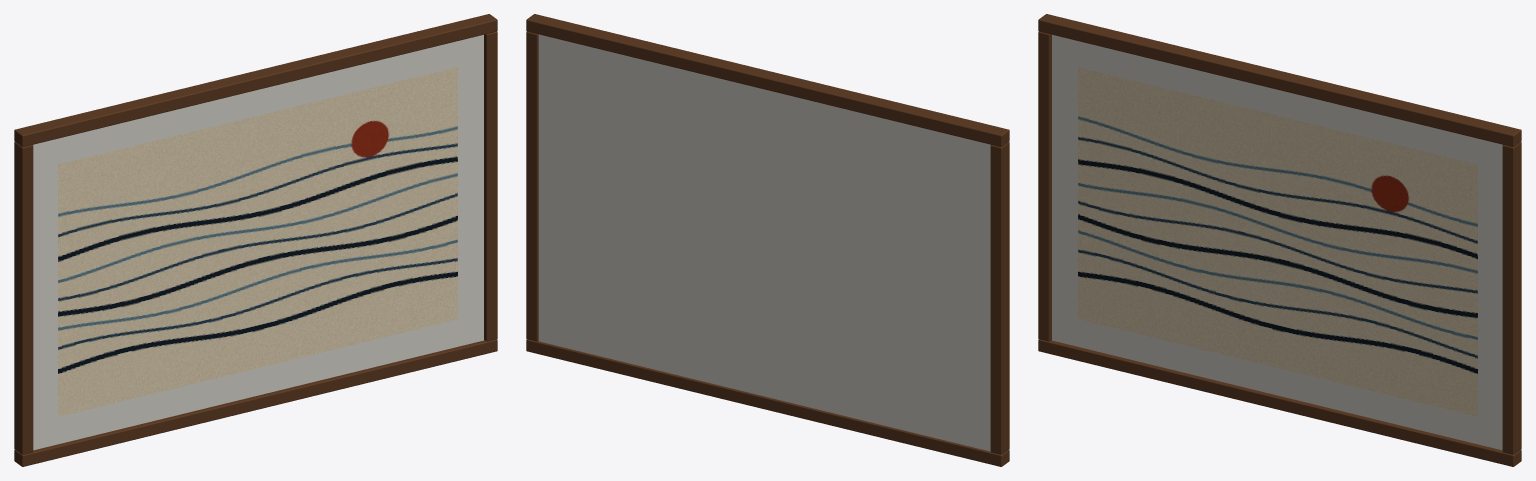
The model's file is quadro_mare.glb.
3 renders of one model, left to right at view 1: azimuth 30°, elevation 25°; view 2: azimuth 150°, elevation 25°; view 3: azimuth 330°, elevation 25°, orthographic.
Parts seen in each view (by area): view 1: q_pintura, q_passe, q_moldura_t, q_moldura_b, q_moldura_l, q_moldura_r; view 2: q_passe, q_moldura_t, q_moldura_b, q_moldura_l, q_moldura_r; view 3: q_pintura, q_passe, q_moldura_t, q_moldura_b, q_moldura_r, q_moldura_l.
Boxes of the visible parts, x1,y1,x2,y2 form: q_pintura: (58, 67, 457, 416); q_passe: (33, 34, 483, 450); q_moldura_t: (14, 14, 497, 146); q_moldura_b: (14, 339, 497, 466); q_moldura_l: (14, 142, 33, 454); q_moldura_r: (484, 31, 497, 341); q_passe: (538, 34, 990, 451); q_moldura_t: (526, 14, 1009, 146); q_moldura_b: (526, 339, 1009, 466); q_moldura_l: (990, 142, 1009, 454); q_moldura_r: (526, 31, 538, 341); q_pintura: (1078, 67, 1477, 416); q_passe: (1052, 34, 1502, 450); q_moldura_t: (1038, 14, 1521, 146); q_moldura_b: (1038, 339, 1521, 466); q_moldura_r: (1502, 142, 1521, 454); q_moldura_l: (1038, 31, 1051, 341).
Size of the model in its own units: 0.9 by 0.6 by 0.028.
Materials: 3 (1 with a texture image).
